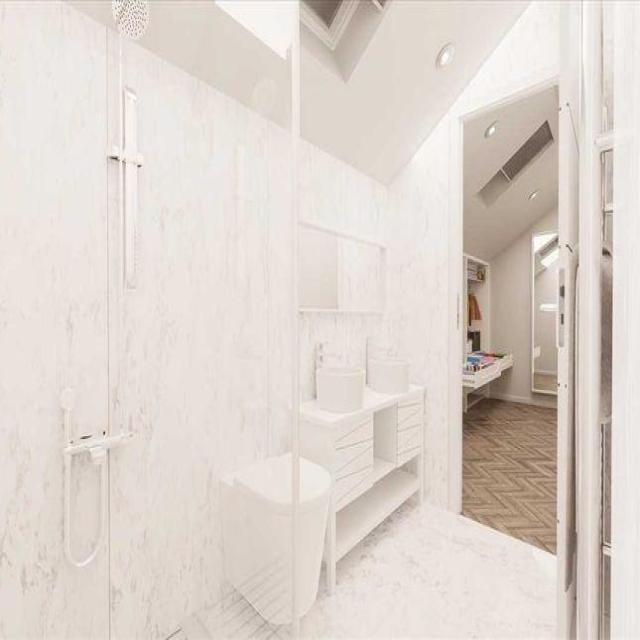Wall: (110, 47, 291, 637), (0, 4, 109, 637), (300, 401, 556, 639), (302, 114, 451, 505), (301, 2, 496, 181), (137, 0, 290, 127), (474, 208, 557, 406), (451, 4, 559, 117), (464, 91, 557, 220), (464, 144, 557, 260), (108, 30, 127, 434), (300, 225, 385, 312), (454, 2, 527, 97), (173, 593, 290, 638), (70, 452, 100, 556), (301, 315, 323, 398), (72, 0, 115, 27)
